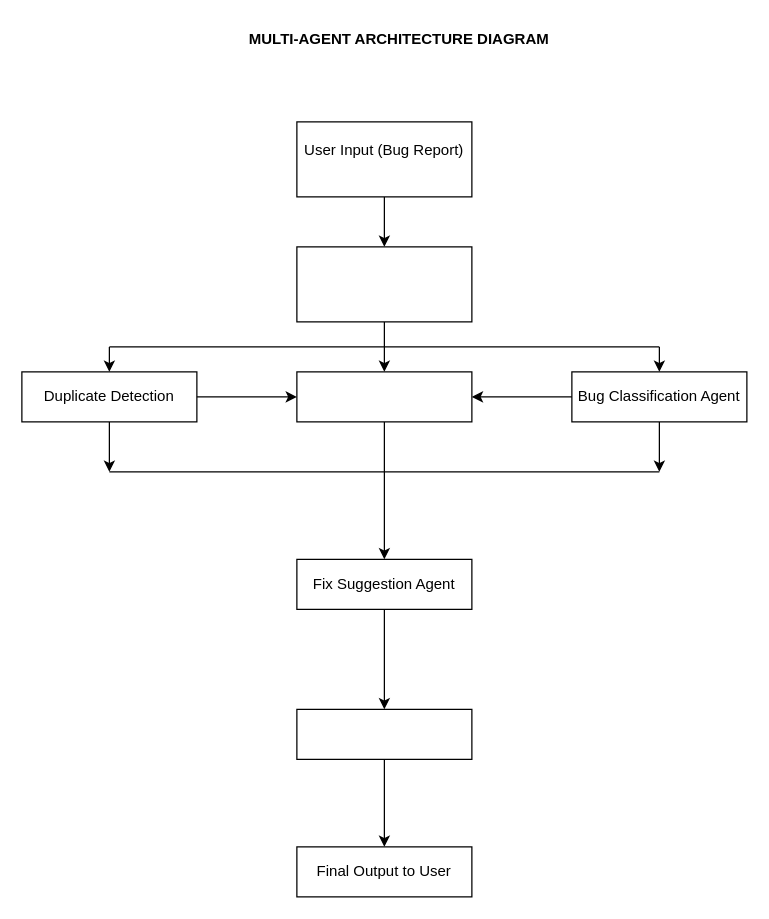
Some shapes in this 769 by 919 pixel diagram are drawn without their labels. Here are the shapes that lost their labels. From the top down, the centre of each, then its label:
At (384,284): "Bug Orchestrator Agent".
At (384,396): "Root Cause Agent".
At (384,733): "Response Formatting Agent".
